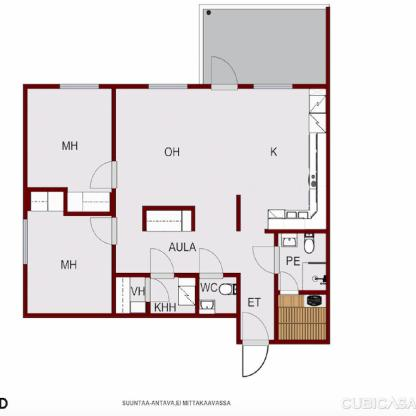door: (241, 311, 270, 379), (209, 55, 243, 97), (148, 245, 178, 283), (88, 216, 122, 249), (198, 246, 226, 283), (87, 162, 119, 191), (252, 244, 280, 277), (146, 280, 173, 302), (278, 273, 300, 296)
window: (59, 82, 99, 91), (21, 219, 28, 266), (148, 83, 187, 91), (254, 84, 291, 90)
zone: (116, 87, 325, 345), (27, 89, 110, 212), (203, 10, 326, 83), (29, 209, 112, 316), (278, 230, 327, 293), (278, 296, 326, 339), (150, 277, 196, 315), (199, 276, 236, 314), (116, 278, 146, 316)
